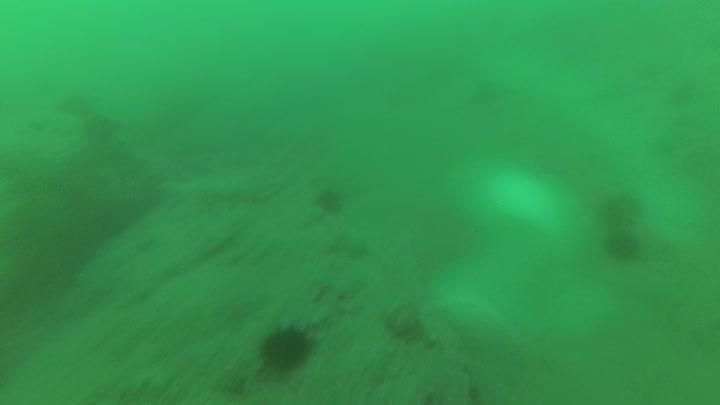echinus: (257, 321, 316, 375), (597, 189, 644, 226), (602, 227, 643, 264), (81, 112, 120, 146), (52, 88, 91, 122), (312, 184, 347, 217)
